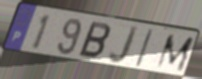1: (31, 14, 52, 52)
9: (55, 17, 83, 57)
B: (76, 20, 112, 61)
I: (133, 28, 155, 69)
J: (107, 25, 140, 66)
M: (153, 34, 196, 74)
